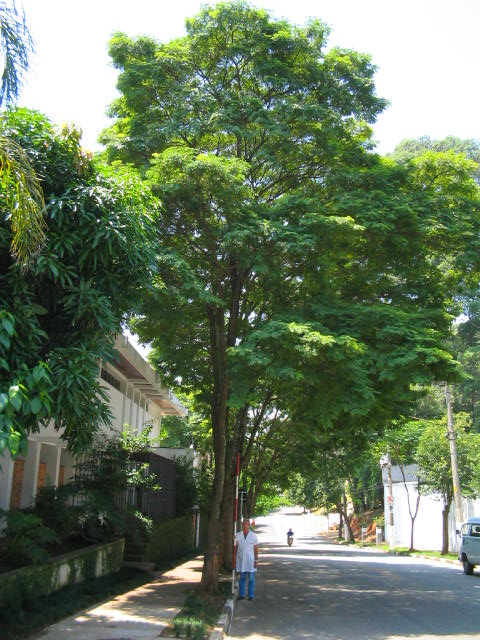crown: (100, 147, 373, 438)
stem: (193, 406, 232, 597)
stick: (227, 450, 244, 595)
tree: (98, 147, 373, 598)
